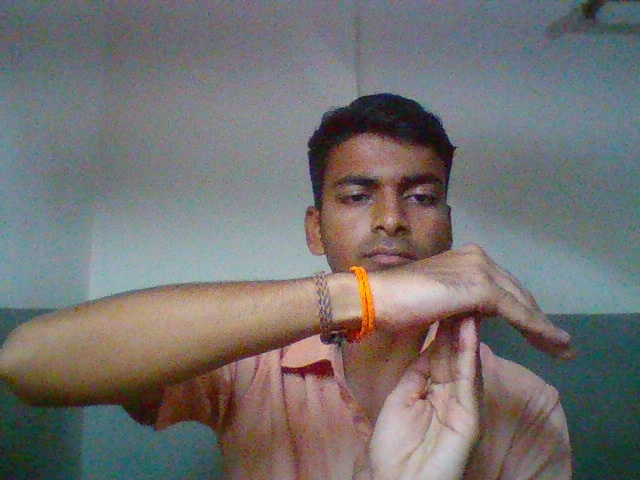J: (362, 230, 587, 480)
